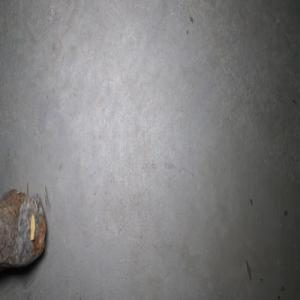Rock: (0, 182, 46, 271)
